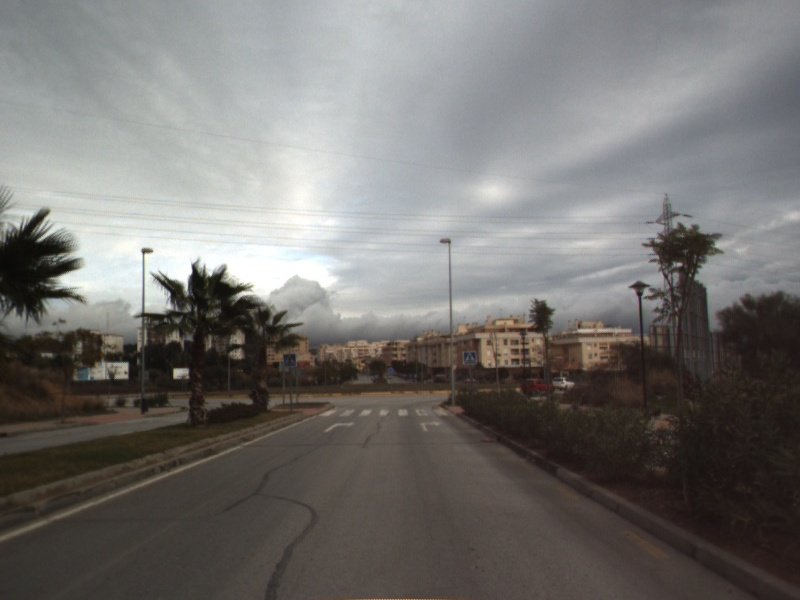RIGHT: (322, 419, 357, 434), (418, 418, 443, 433)
